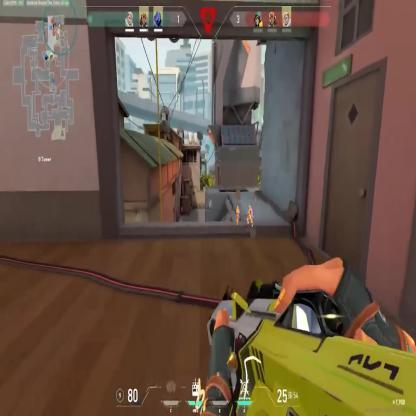enemy: (246, 206, 253, 226), (236, 206, 240, 226)
enemy_head: (236, 206, 238, 210), (249, 206, 251, 210)
